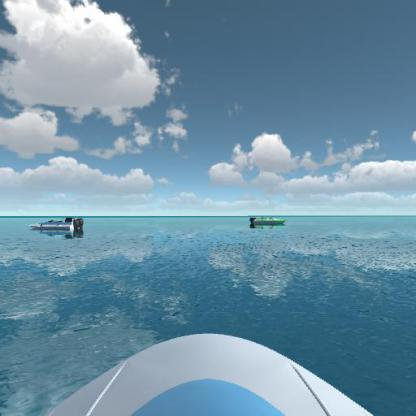usv0: (249, 212, 289, 231)
usv1: (26, 214, 89, 240)
